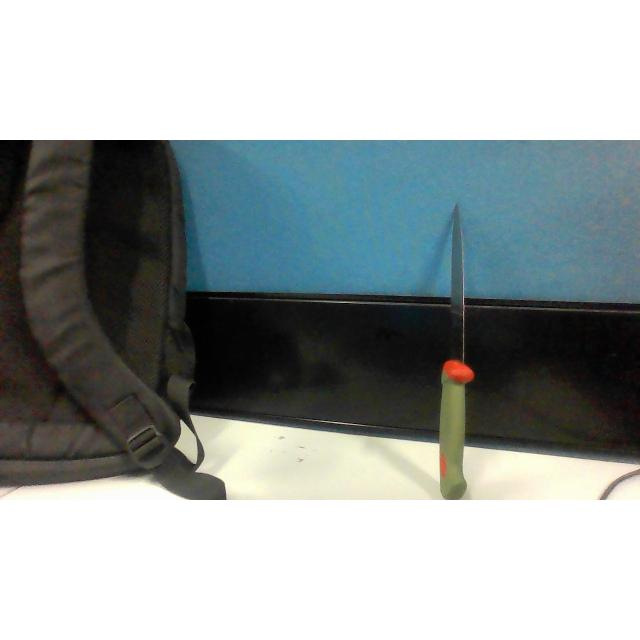Knife: (440, 204, 475, 500)
